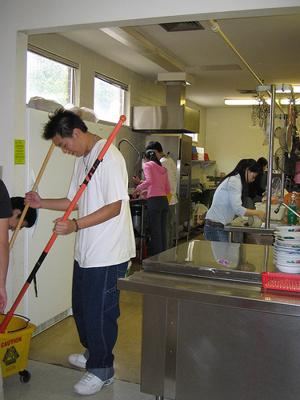person: (24, 110, 136, 398)
